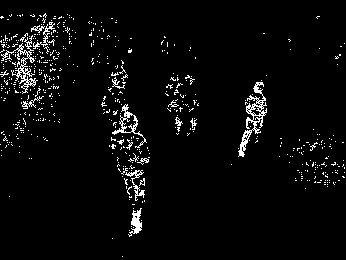person: (109, 110, 150, 235), (237, 78, 267, 157), (178, 74, 198, 136), (165, 72, 182, 136)
